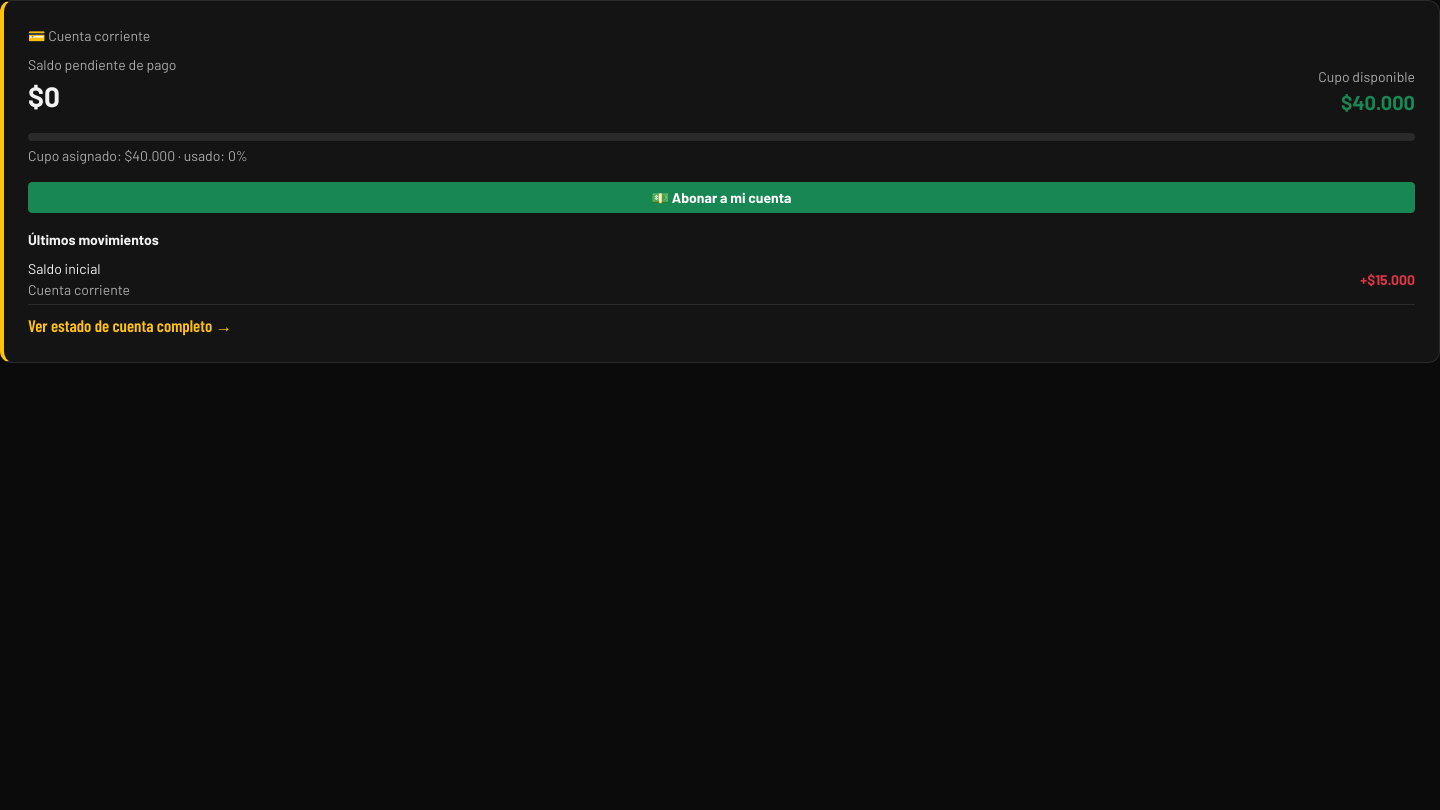
Test: Componente CuentaCorriente (abonos del cliente) › sin saldo pendiente avisa que no hay nada que abonar
Step 1. Click the button "💵 Abonar a mi cuenta" → (722, 198), box [28,182,1415,213]
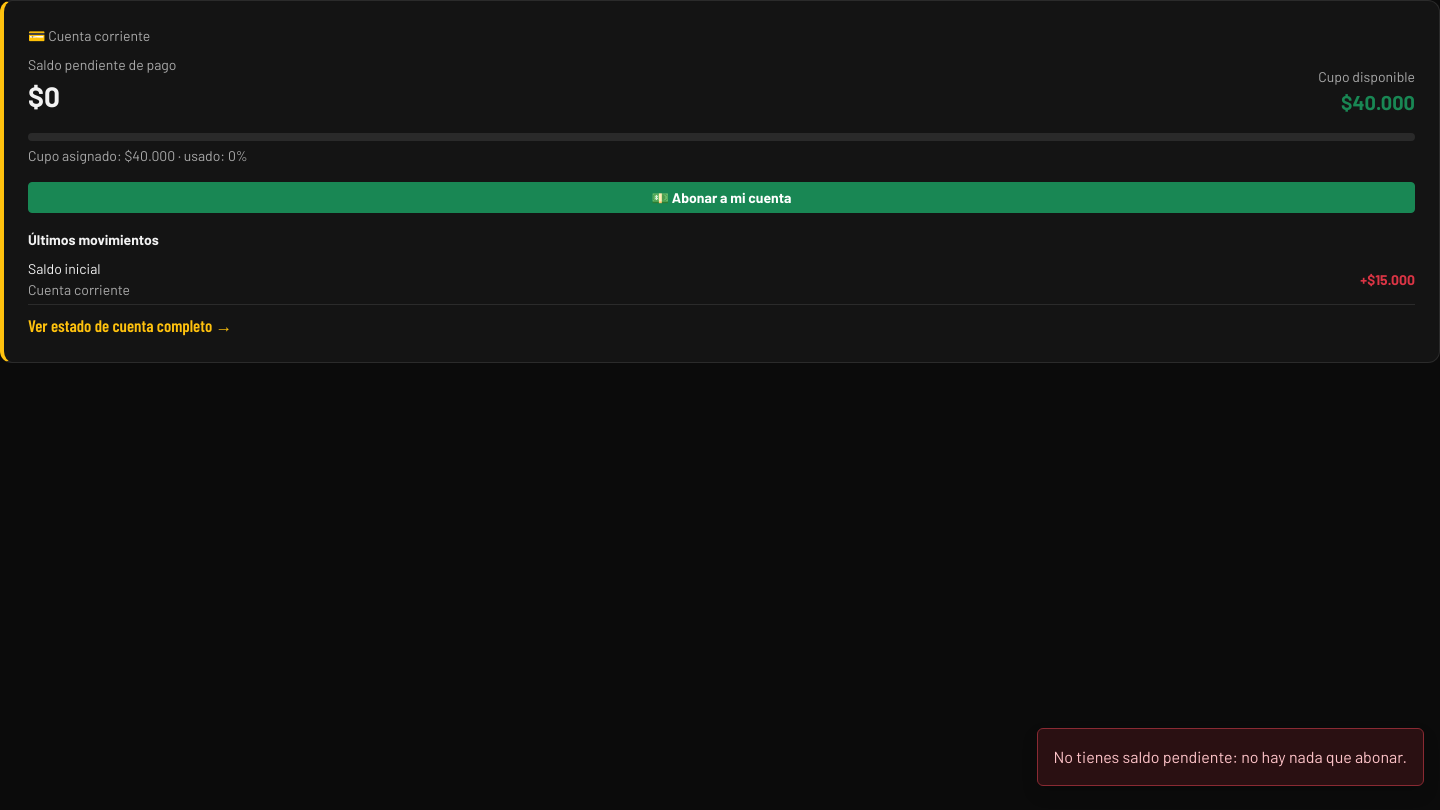
Expected: the message "No tienes saldo pendiente: no hay nada que abonar." is shown, [1036,728,1424,786]
